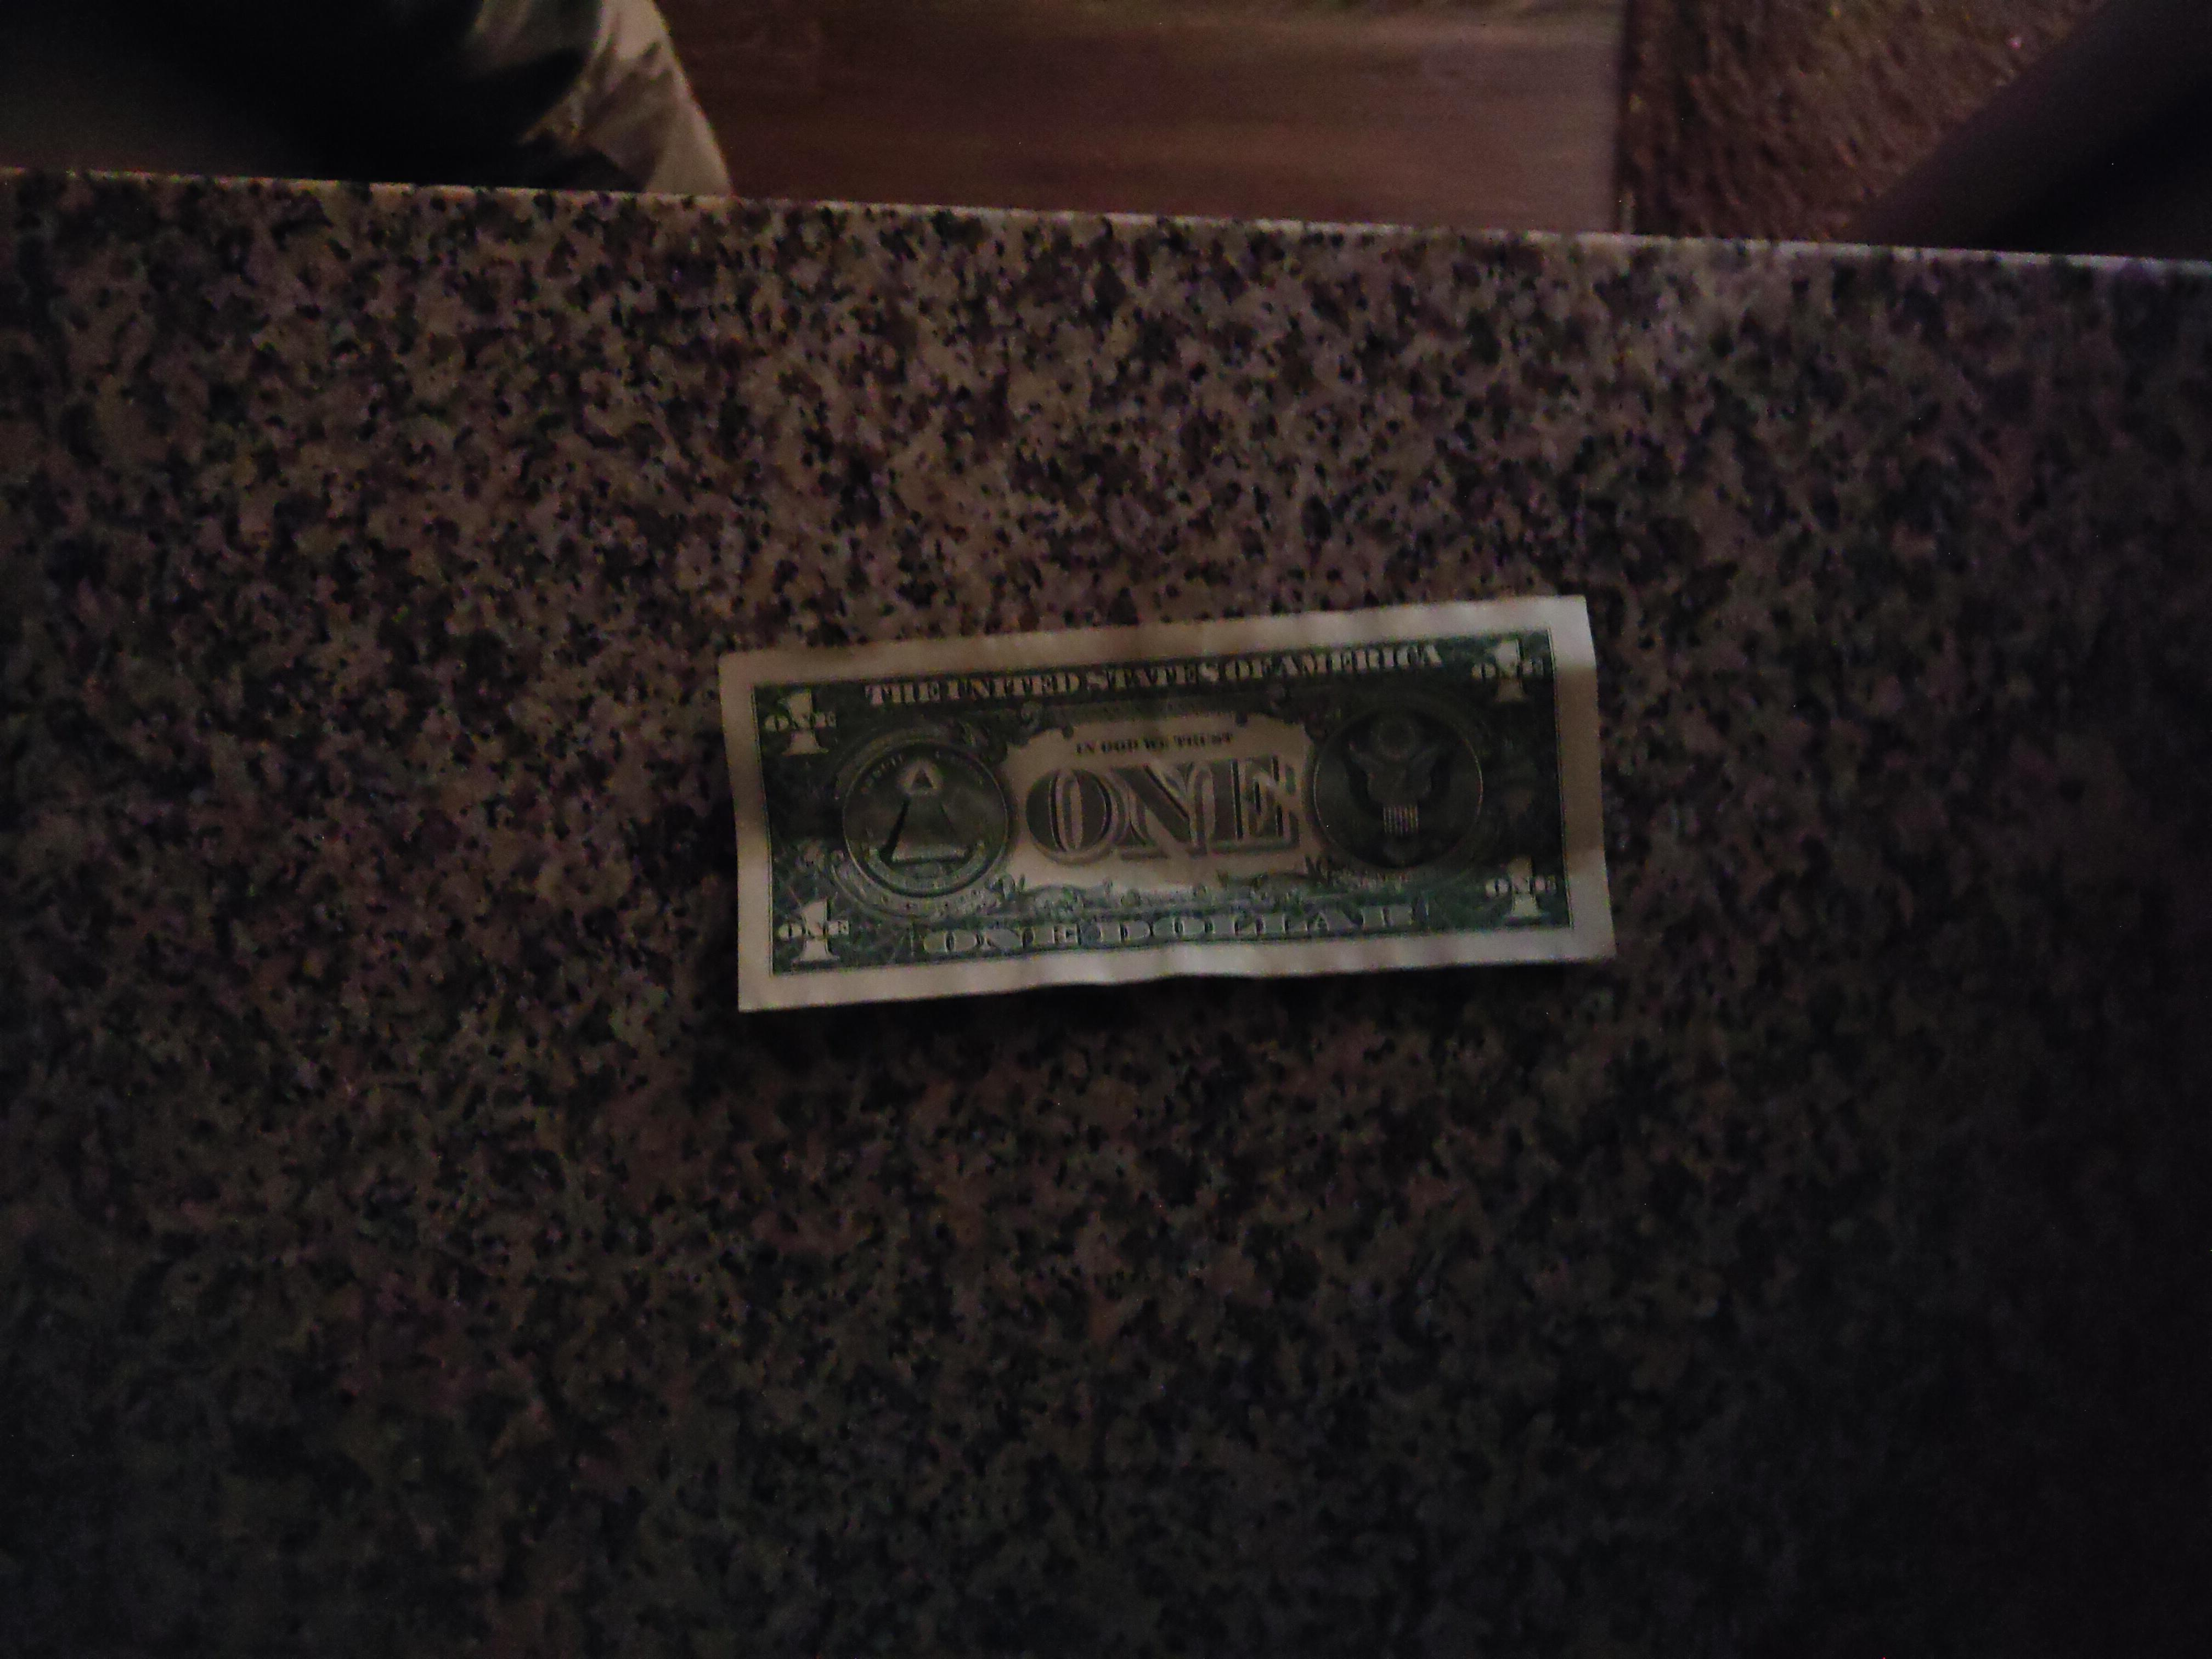OneBill: (707, 591, 1625, 1019)
